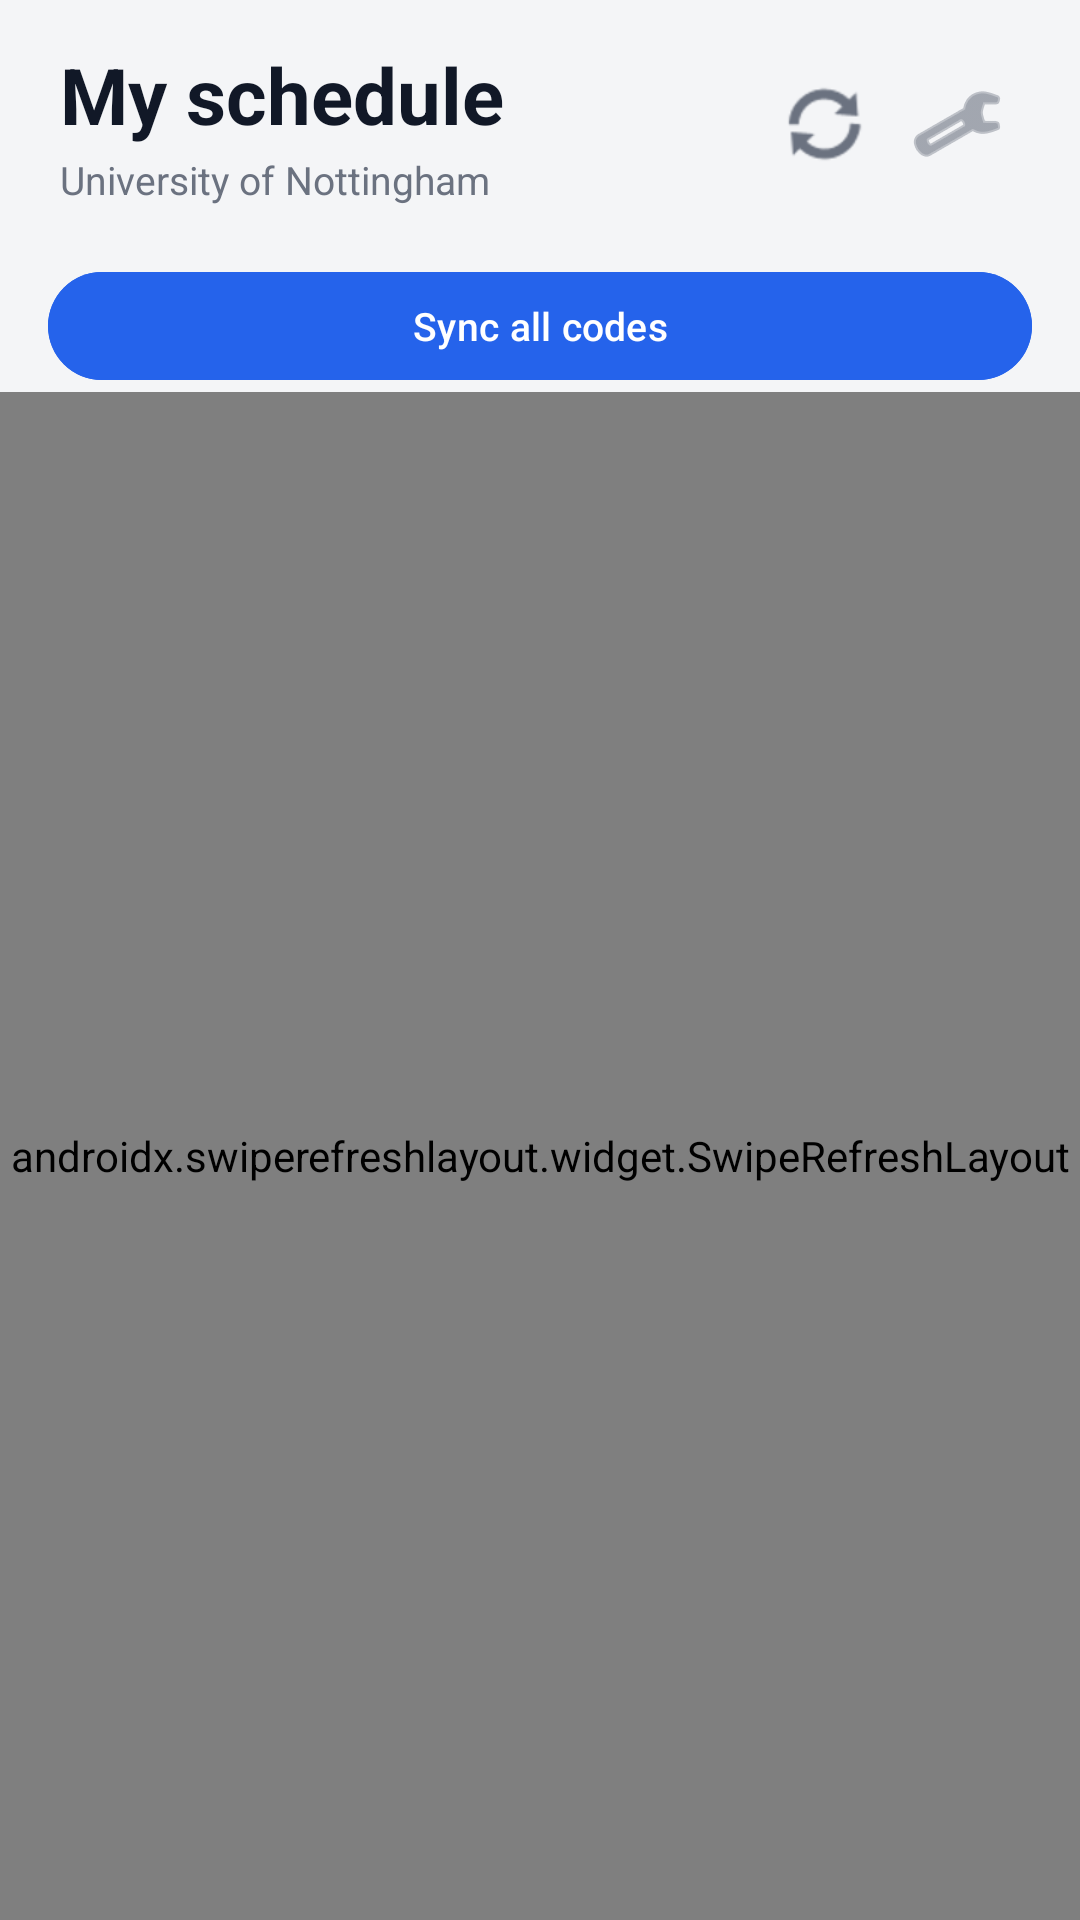

Icons on this 1080px x 1920px Android screen, each with its box as (x1, y1, x2, y2):
Refresh: (788, 88, 861, 160)
Settings: (914, 91, 1000, 157)
